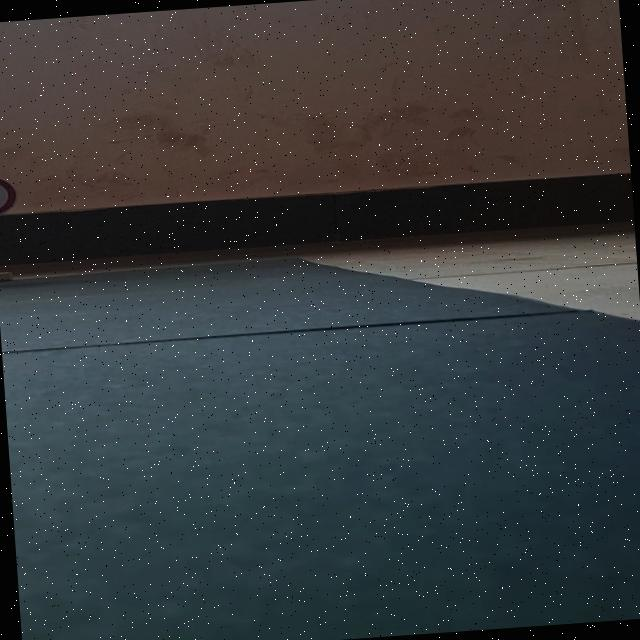Speed60: (0, 169, 18, 218)
